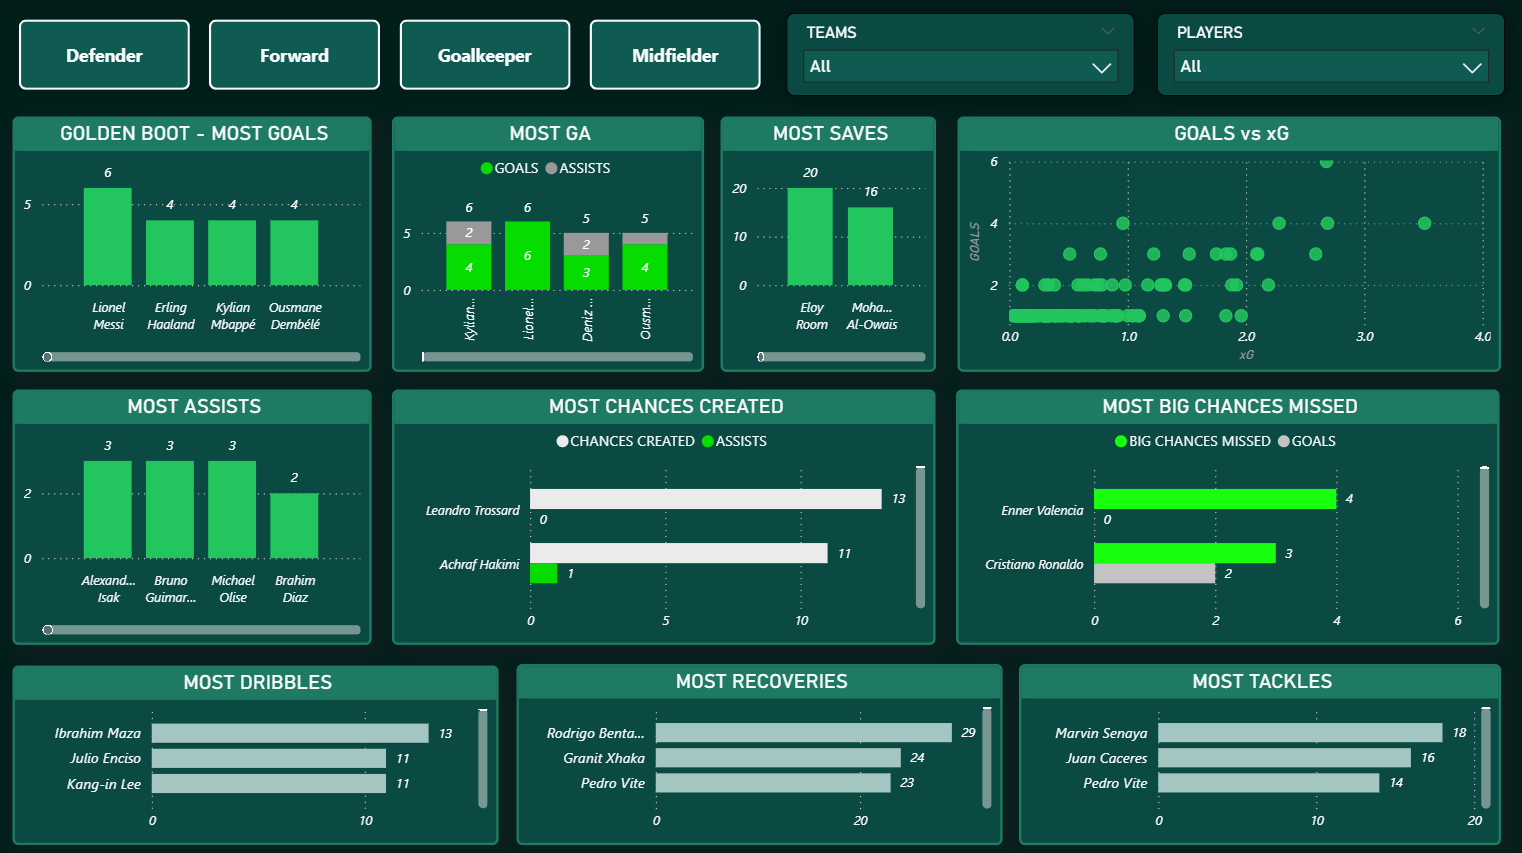

This screenshot's page, from the dashboard's own definition file:
{"tool":"powerbi","page":{"name":"Player Stats","canvas":[1280,720],"ordinal":2},"visuals":[{"type":"slicer","title":"TEAM","fields":{"Values":["wc2026 playersstats.PLAYER"]},"box":[972.1,12.1,290.7,69.7],"z":0},{"type":"advancedSlicerVisual","title":"POSITIONS","fields":{"Values":["wc2026 playersstats.POSITION"]},"box":[16.7,12.1,631.4,69.7],"z":1000},{"type":"slicer","title":"TEAM","fields":{"Values":["wc2026 playersstats.TEAM"]},"box":[663.2,12.1,290.7,69.7],"z":2000},{"type":"clusteredColumnChart","title":"MOST GOALS","fields":{"Category":["wc2026 playersstats.PLAYER"],"Y":["Sum(wc2026 playersstats.GOALS)"]},"box":[16.7,98.4,299.8,213.5],"z":3000},{"type":"clusteredColumnChart","title":"MOST ASSISTS","fields":{"Category":["wc2026 playersstats.PLAYER"],"Y":["Sum(wc2026 playersstats.ASSISTS)"]},"box":[16.7,327.1,299.8,213.5],"z":4000},{"type":"columnChart","title":"MOST GA","fields":{"Category":["wc2026 playersstats.PLAYER"],"Y":["Sum(wc2026 playersstats.GOALS)","Sum(wc2026 playersstats.ASSISTS)"]},"box":[333.1,98.4,260.4,213.5],"z":5000},{"type":"clusteredColumnChart","title":"MOST SAVES","fields":{"Category":["wc2026 playersstats.PLAYER"],"Y":["Sum(wc2026 playersstats.SAVES)"]},"box":[607.2,98.4,180.2,213.5],"z":6000},{"type":"barChart","title":"MOST RECOVERIES","fields":{"Category":["wc2026 playersstats.PLAYER"],"Y":["Sum(wc2026 playersstats.RECOVERIES)"]},"box":[437.6,555.7,405.8,151.4],"z":7000},{"type":"barChart","title":"MOST TACKLES","fields":{"Category":["wc2026 playersstats.PLAYER"],"Y":["Sum(wc2026 playersstats.TACKLES)"]},"box":[857,555.7,402.8,151.4],"z":8000},{"type":"clusteredBarChart","title":"MOST BIG CHANCES MISSED","fields":{"Category":["wc2026 playersstats.PLAYER"],"Y":["Sum(wc2026 playersstats.BCM)","Sum(wc2026 playersstats.GOALS)"]},"box":[805,327.1,454.3,213.5],"z":10000},{"type":"clusteredBarChart","title":"MOST CHANCES CREATED","fields":{"Category":["wc2026 playersstats.PLAYER"],"Y":["Sum(wc2026 playersstats.CHANCES_CREATED)","Sum(wc2026 playersstats.ASSISTS)"]},"box":[333.1,327.1,454.3,213.5],"z":11000},{"type":"scatterChart","title":"GOALS vs xG","fields":{"X":["Sum(wc2026 playersstats.xG)"],"Y":["Sum(wc2026 playersstats.GOALS)"],"Category":["wc2026 playersstats.PLAYER"]},"box":[805.6,98.4,454.3,213.5],"z":12000},{"type":"barChart","title":"MOST DRIBBLES","fields":{"Category":["wc2026 playersstats.PLAYER"],"Y":["Sum(wc2026 playersstats.DRIBBLES)"]},"box":[16.7,557.2,405.8,149.9],"z":13000}]}

Visuals, with their boxes in screenshot pixels (x1, y1, x2, y2), scaled from the page's 1280x720 canvas onto the 1522x853 screenshot:
"TEAM" slicer: (x1=1156, y1=14, x2=1502, y2=97)
"POSITIONS" advancedSlicerVisual: (x1=20, y1=14, x2=771, y2=97)
"TEAM" slicer: (x1=789, y1=14, x2=1134, y2=97)
"MOST GOALS" clusteredColumnChart: (x1=20, y1=117, x2=376, y2=370)
"MOST ASSISTS" clusteredColumnChart: (x1=20, y1=388, x2=376, y2=640)
"MOST GA" columnChart: (x1=396, y1=117, x2=706, y2=370)
"MOST SAVES" clusteredColumnChart: (x1=722, y1=117, x2=936, y2=370)
"MOST RECOVERIES" barChart: (x1=520, y1=658, x2=1003, y2=838)
"MOST TACKLES" barChart: (x1=1019, y1=658, x2=1498, y2=838)
"MOST BIG CHANCES MISSED" clusteredBarChart: (x1=957, y1=388, x2=1497, y2=640)
"MOST CHANCES CREATED" clusteredBarChart: (x1=396, y1=388, x2=936, y2=640)
"GOALS vs xG" scatterChart: (x1=958, y1=117, x2=1498, y2=370)
"MOST DRIBBLES" barChart: (x1=20, y1=660, x2=502, y2=838)
